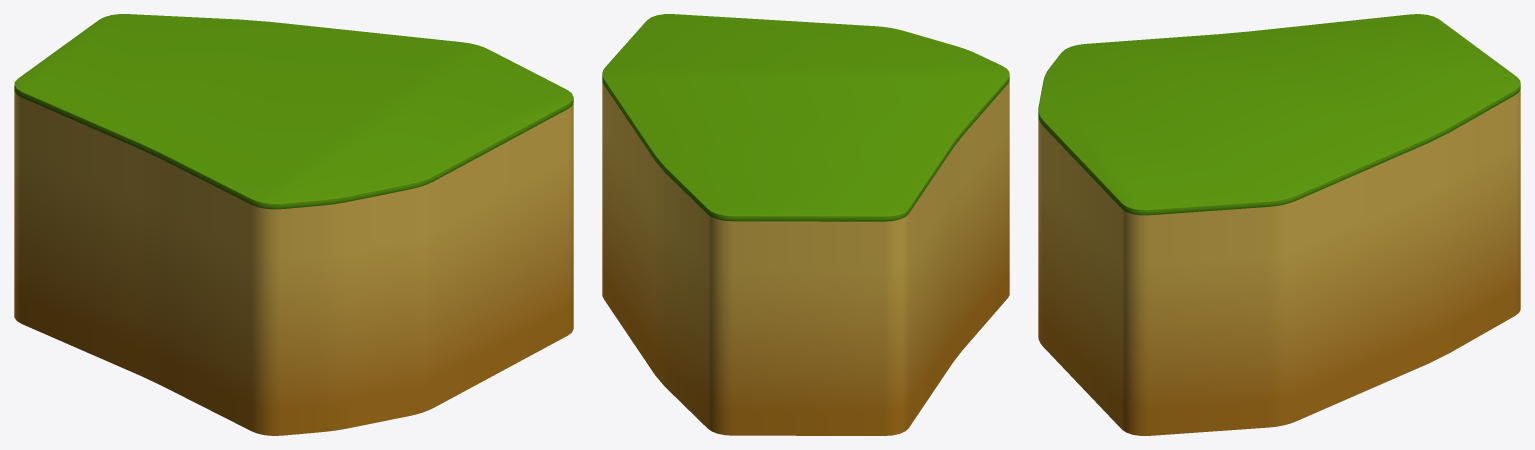
The model's file is LM100NAT04.fbx.
3 views of the same model, side by side, from view 1: azimuth 30°, elevation 25°; view 2: azimuth 150°, elevation 25°; view 3: azimuth 270°, elevation 25° (orthographic). The views are drawn at different scales.
Parts seen in each view (by area): view 1: LOD0; view 2: LOD0; view 3: LOD0.
Part boxes in pixels (x1,y1,x2,y2): LOD0: (14,14,573,435); LOD0: (602,14,1009,435); LOD0: (1038,14,1520,435).
Size of what is drawn, in the model's own units: 9281 by 9661 by 5000.
